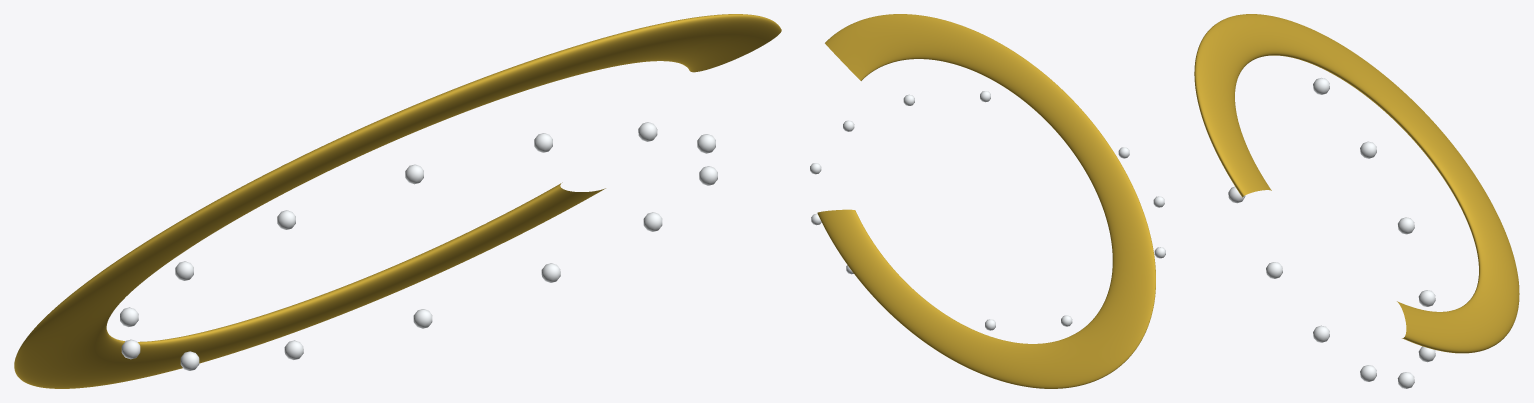
Rendered from bangle.glb.
3 renders of one model, left to right at view 1: azimuth 30°, elevation 25°; view 2: azimuth 150°, elevation 25°; view 3: azimuth 270°, elevation 25°, orthographic. The views are drawn at different scales.
Visible parts, largest first — view 1: cuff_body; view 2: cuff_body; view 3: cuff_body.
Boxes of the visible parts, x1,y1,x2,y2 form: cuff_body: (14, 14, 781, 388); cuff_body: (817, 14, 1155, 388); cuff_body: (1194, 14, 1519, 353).
Bounding box in the file's own units: 2.3 × 1.36 × 1.13.
